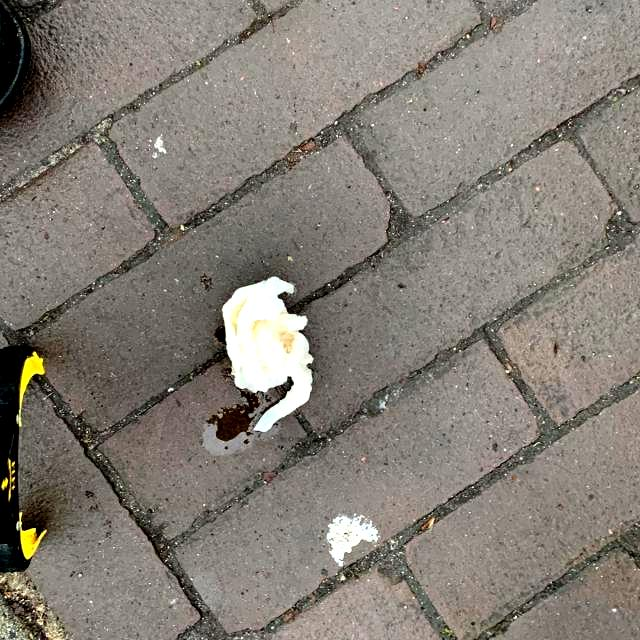Paper: (216, 272, 320, 438)
